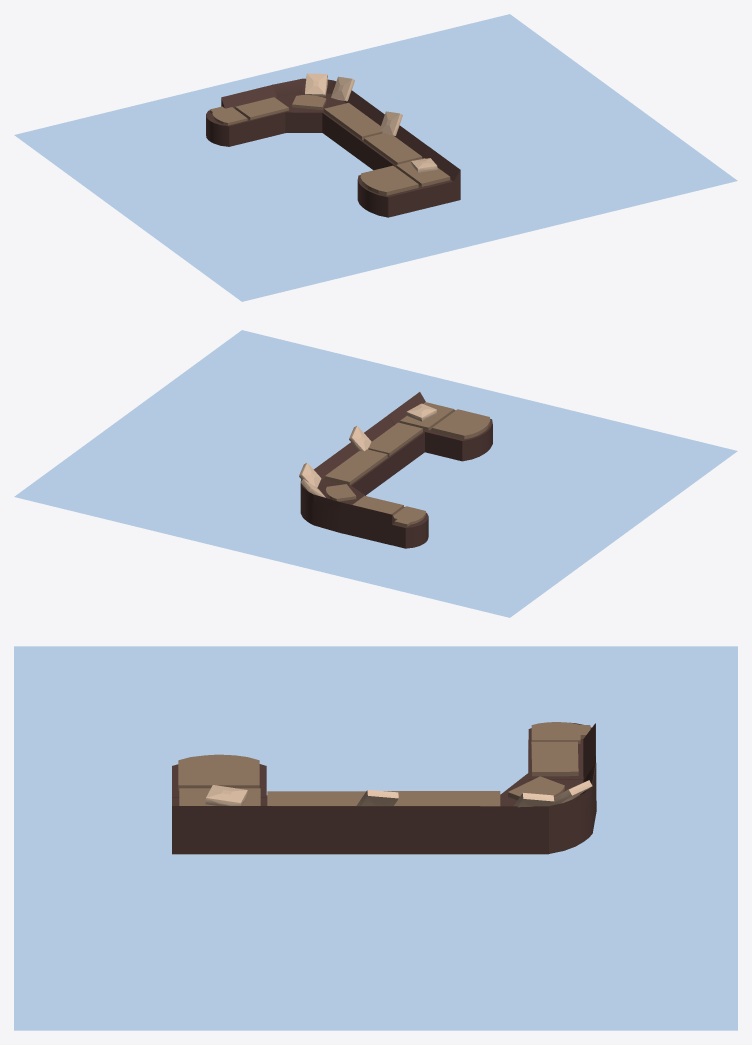
Rendered from Sofa.glb.
The picture shows the model from 3 angles, top to bottom: view 1: azimuth 30°, elevation 25°; view 2: azimuth 150°, elevation 25°; view 3: azimuth 270°, elevation 25°; orthographic projection. The views are drawn at different scales.
Parts seen in each view (by area): view 1: Plane, LeftFront, LeftFront.002, Cube.002, Cube.001, Cube.003, Cube, Pillow.003, LeftFront.001; view 2: Plane, LeftFront, LeftFront.002, Cube.002, Cube.001, Cube, Cube.003, LeftFront.001; view 3: Plane, LeftFront, LeftFront.002, Cube.003, Cube.002, Cube.001, LeftFront.001, Cube, LeftFront.003, Pillow.002.
Boxes of the visible parts, left/top/right/bottom form: Plane: left=14, top=14, right=737, bottom=301; LeftFront: left=206, top=78, right=460, bottom=217; LeftFront.002: left=360, top=165, right=418, bottom=195; Cube.002: left=324, top=102, right=382, bottom=139; Cube.001: left=364, top=133, right=422, bottom=164; Cube.003: left=235, top=97, right=288, bottom=119; Cube: left=396, top=158, right=450, bottom=186; Pillow.003: left=305, top=73, right=327, bottom=96; LeftFront.001: left=209, top=106, right=247, bottom=125; Plane: left=14, top=330, right=737, bottom=617; LeftFront: left=300, top=392, right=492, bottom=548; LeftFront.002: left=432, top=409, right=490, bottom=439; Cube.002: left=325, top=449, right=387, bottom=485; Cube.001: left=368, top=422, right=422, bottom=456; Cube: left=400, top=402, right=454, bottom=430; Cube.003: left=352, top=495, right=403, bottom=515; LeftFront.001: left=393, top=506, right=425, bottom=526; Plane: left=14, top=646, right=737, bottom=1030; LeftFront: left=172, top=722, right=596, bottom=854; LeftFront.002: left=178, top=754, right=259, bottom=790; Cube.003: left=531, top=741, right=578, bottom=776; Cube.002: left=384, top=791, right=500, bottom=806; Cube.001: left=267, top=791, right=365, bottom=805; LeftFront.001: left=531, top=722, right=590, bottom=743; Cube: left=179, top=788, right=260, bottom=805; LeftFront.003: left=508, top=776, right=564, bottom=800; Pillow.002: left=205, top=785, right=247, bottom=805.
Size of the model in its own units: 28.51 by 2.92 by 22.71.
